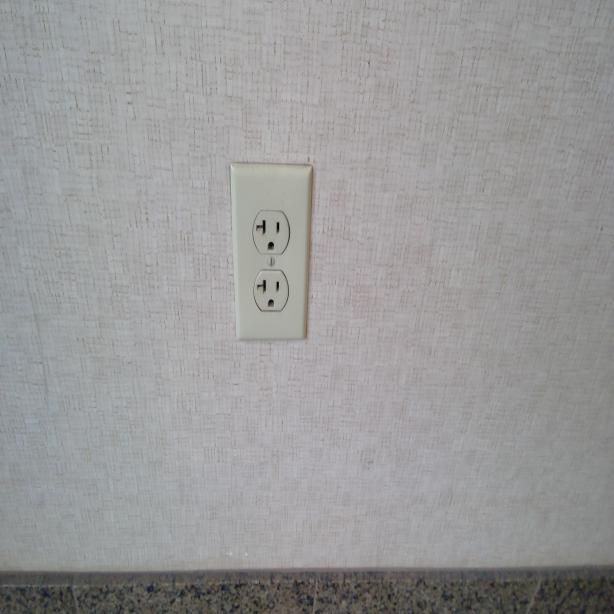typeb: (251, 267, 291, 320), (253, 207, 290, 256)
